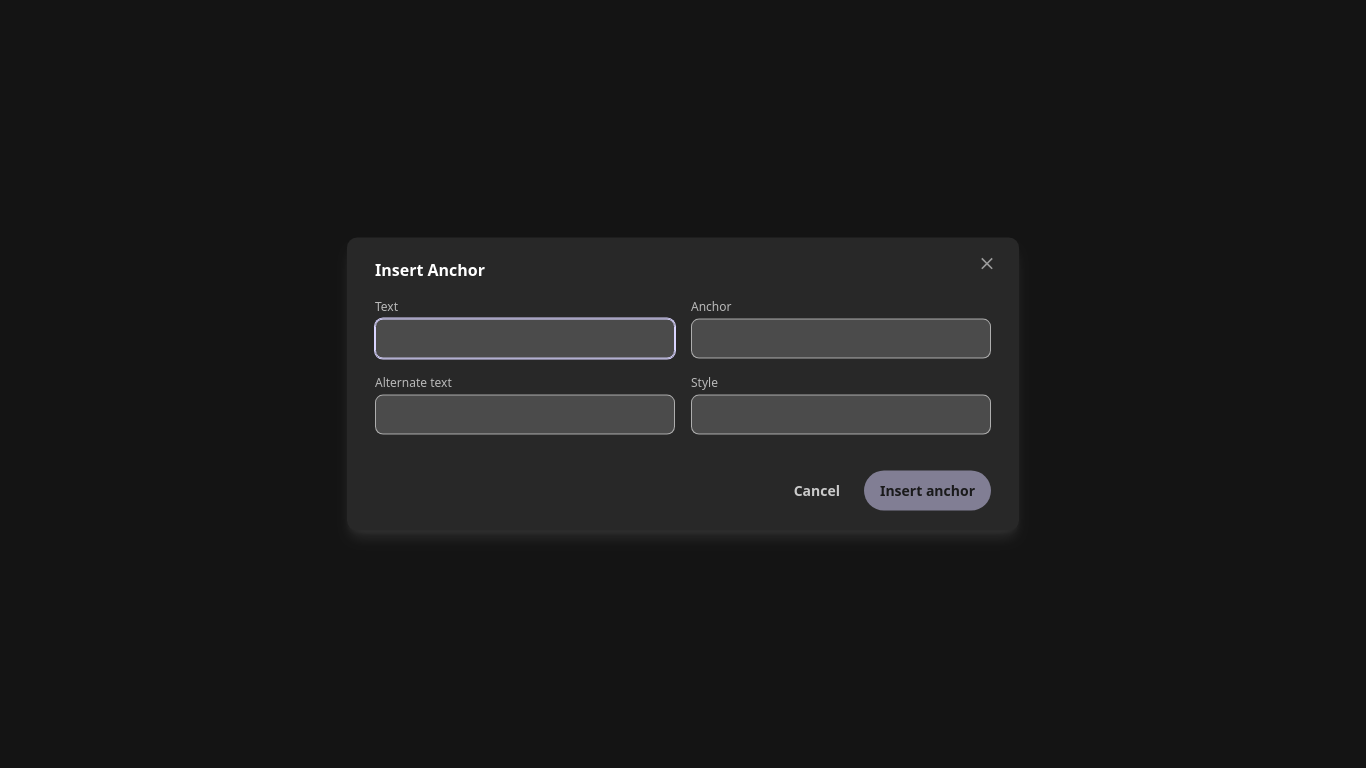
Test: InsertAnchorDialog › enables Insert once Anchor is non-empty
The image size is (1366, 768).
In the field labelled "Anchor": {"x": 841, "y": 338} [691,318,991,358], type "section-1"
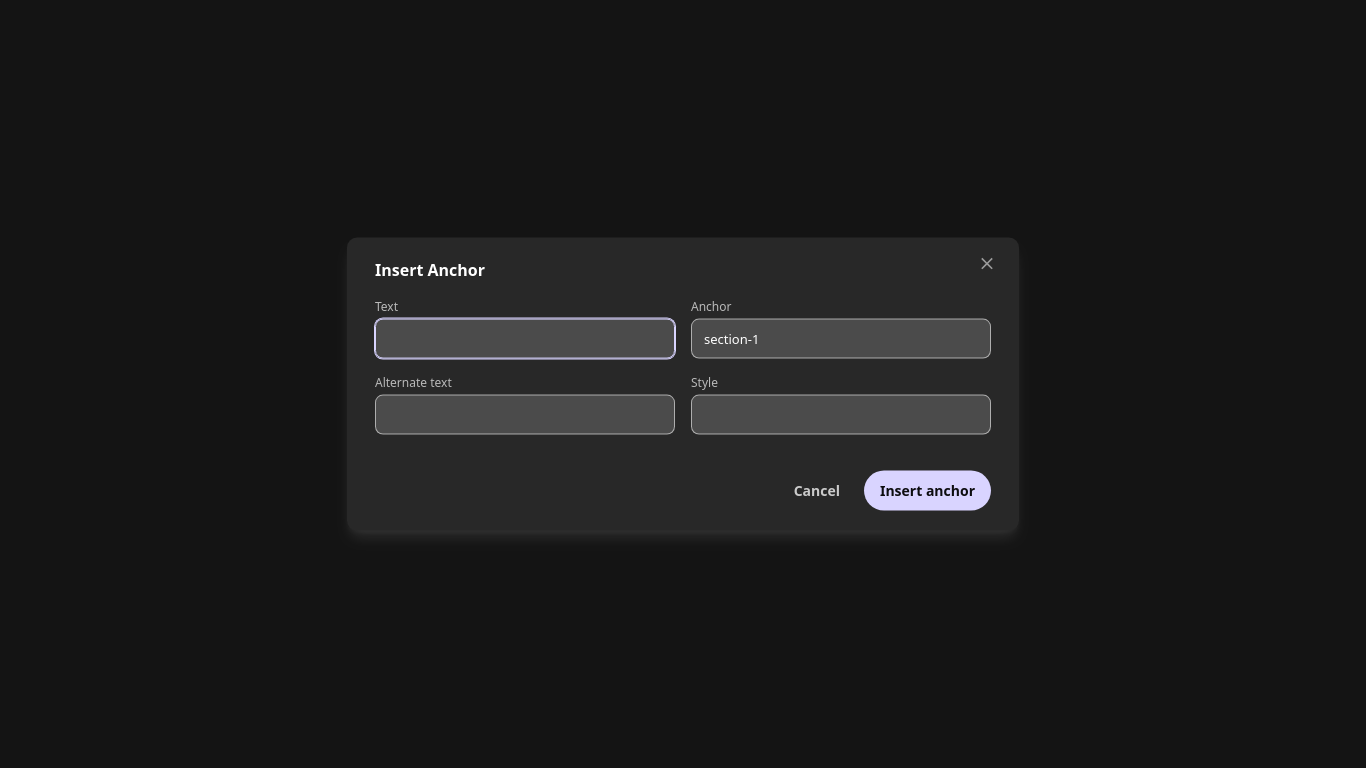
Expected: the button "Insert anchor" is enabled, [864,470,991,510]
